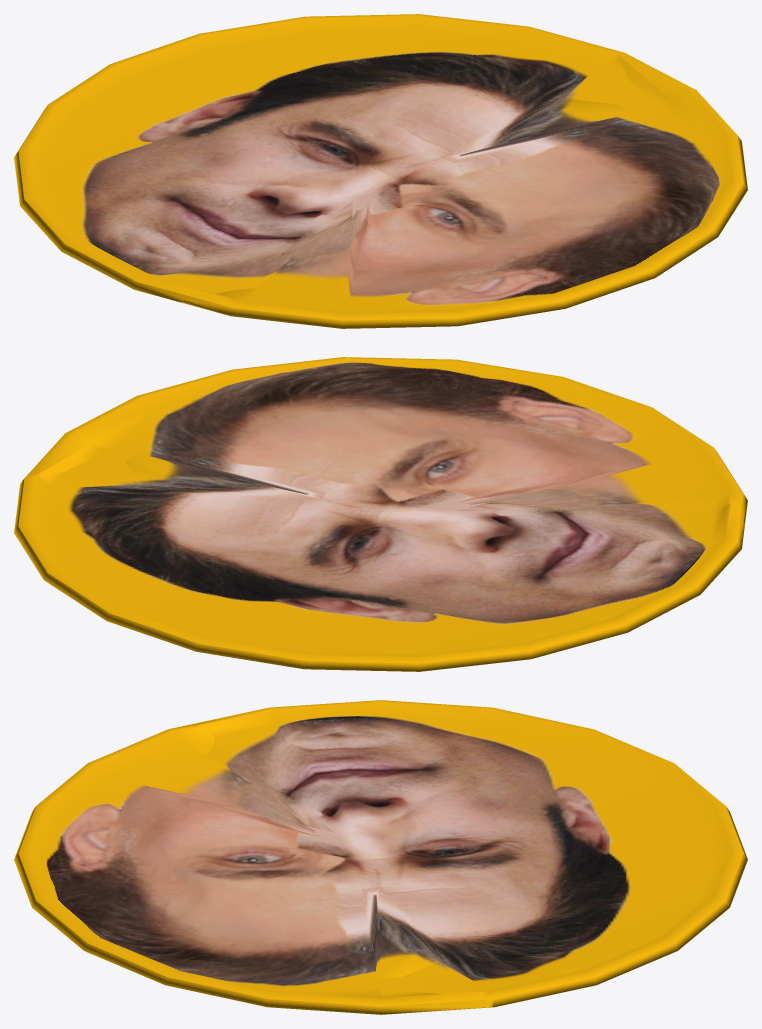
Rendered from PlateBroken.fbx.
The picture shows the model from 3 angles, top to bottom: view 1: azimuth 30°, elevation 25°; view 2: azimuth 150°, elevation 25°; view 3: azimuth 270°, elevation 25°; orthographic projection.
Visible parts, largest first — view 1: shard3, shard4; view 2: shard3, shard4; view 3: shard3, shard4.
Boxes of the visible parts, x1,y1,x2,y2 form: shard3: (14,14,656,302); shard4: (182,56,747,328); shard3: (14,448,744,671); shard4: (28,357,747,524); shard3: (198,700,747,1007); shard4: (14,721,488,1014).
Size of the model in its own units: 2 by 0.0446 by 2.
1 material, 1 textured.
